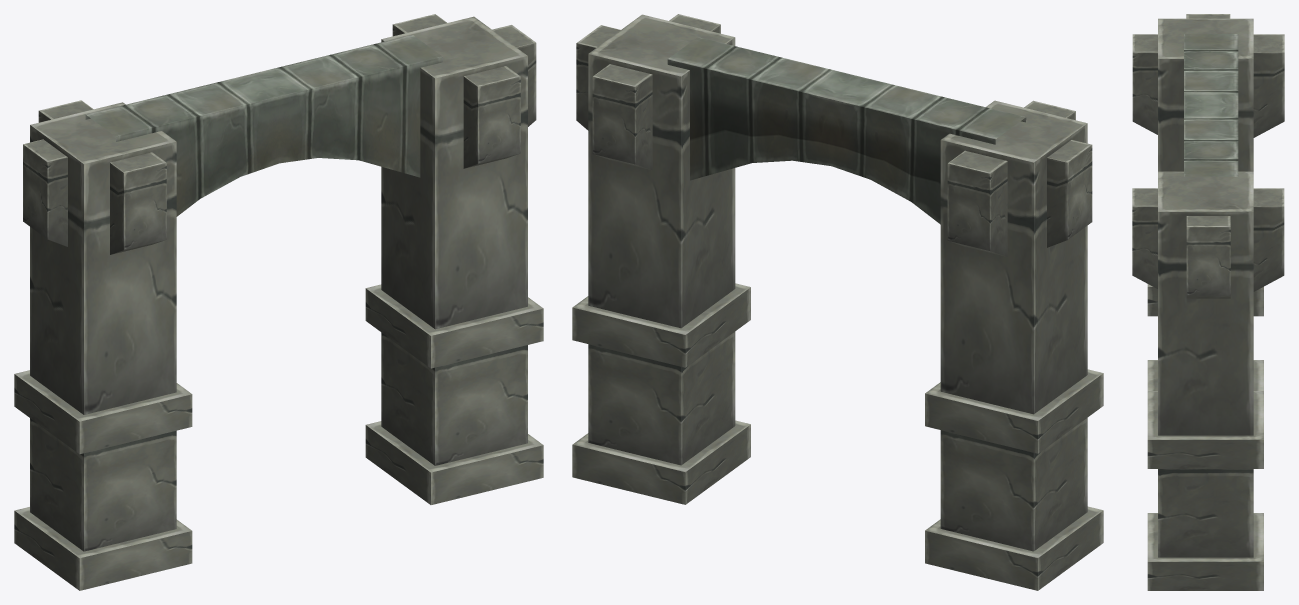
Rendered from bridge_04a_downside_02.fbx.
The picture shows the model from 3 angles, left to right: view 1: azimuth 30°, elevation 25°; view 2: azimuth 150°, elevation 25°; view 3: azimuth 270°, elevation 25°; orthographic projection. The views are drawn at different scales.
Parts seen in each view (by area): view 1: bridge_04a_downside_02; view 2: bridge_04a_downside_02; view 3: bridge_04a_downside_02.
Boxes of the visible parts, box(x1,y1,x2,y2) form: bridge_04a_downside_02: box(14, 14, 543, 590); bridge_04a_downside_02: box(572, 14, 1103, 590); bridge_04a_downside_02: box(1132, 14, 1284, 590).
Bounding box in the file's own units: 3.43 × 2.85 × 1.04.
